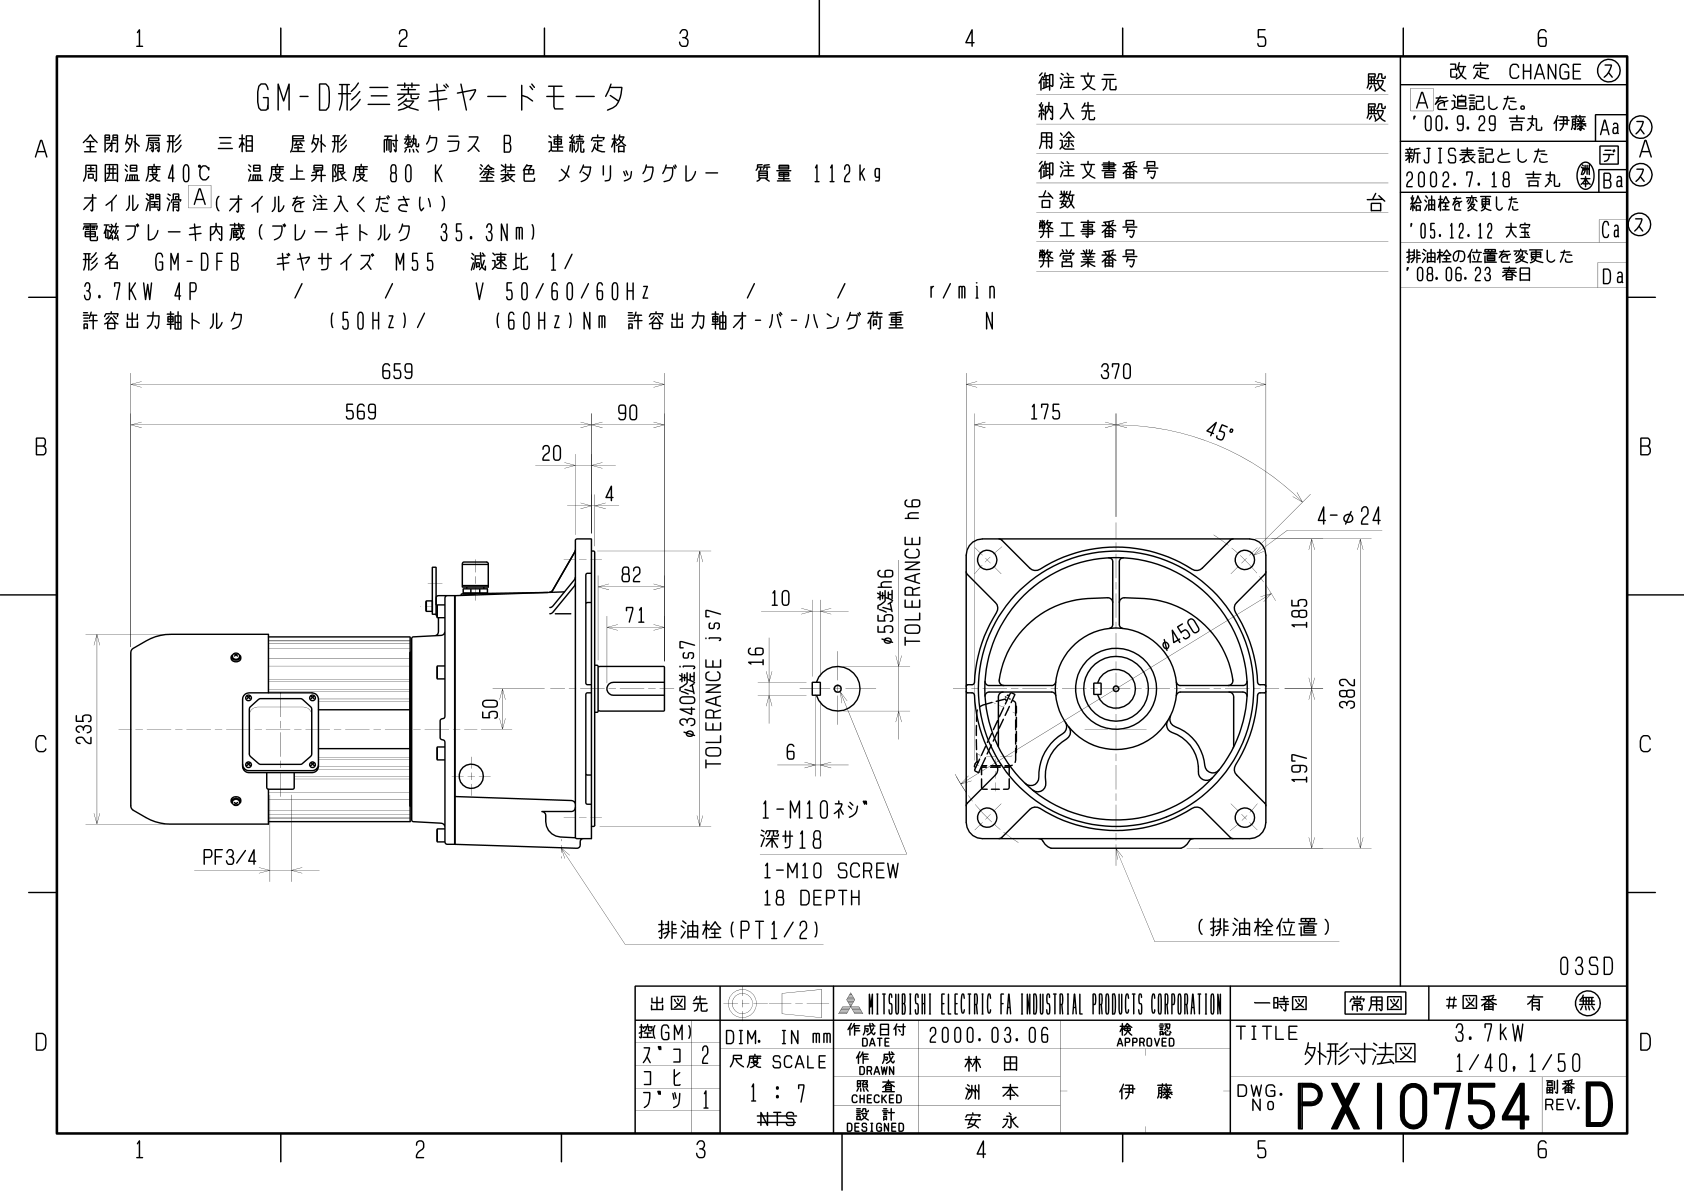GM_D_屋外＿三相_フランジ: (1, 1, 1667, 1176)
